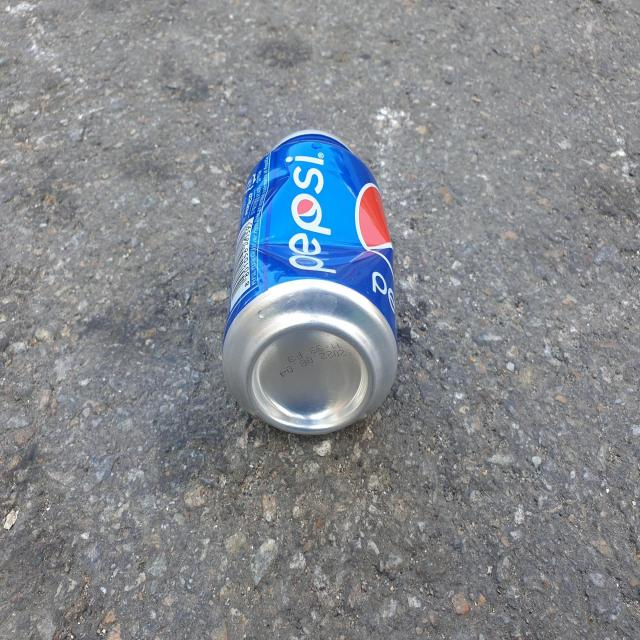can: (222, 129, 398, 434)
